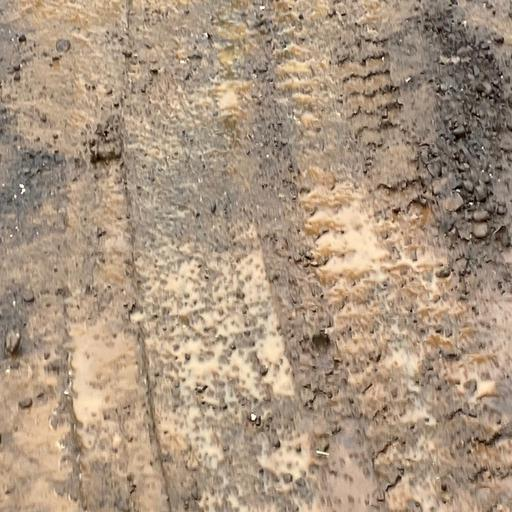vehicle_track: (227, 0, 512, 511), (66, 0, 169, 512), (261, 2, 261, 12)
